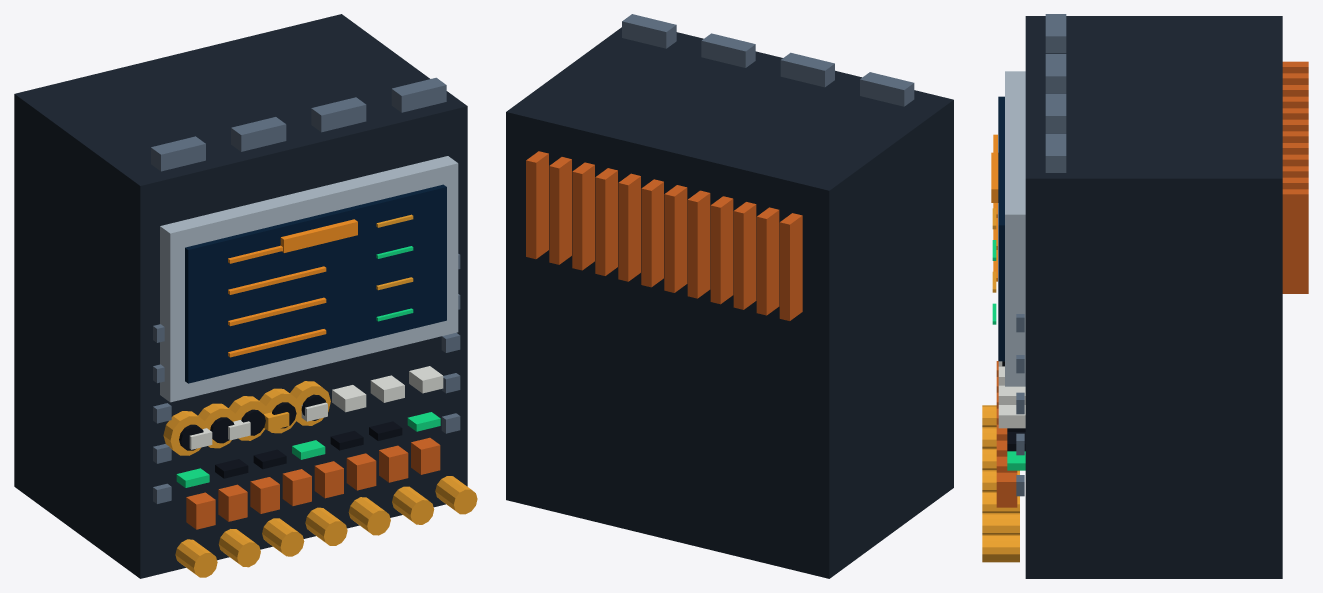
Rendered from 30_L87_BearingPowerAmplifierCabinet.fbx.
3 renders of one model, left to right at view 1: azimuth 30°, elevation 25°; view 2: azimuth 150°, elevation 25°; view 3: azimuth 270°, elevation 25°, orthographic. The views are drawn at different scales.
Visible parts, largest first — view 1: L87_BearingPowerAmplifierCabinet, L87_BearingPowerAmplifierCabinet_Part_0010, L87_BearingPowerAmplifierCabinet_Part_0011, L87_BearingPowerAmplifierCabinet_Part_0013, L87_BearingPowerAmplifierCabinet_Part_0021, L87_BearingPowerAmplifierCabinet_Part_0019, L87_BearingPowerAmplifierCabinet_Part_0015, L87_BearingPowerAmplifierCabinet_Part_0017; view 2: L87_BearingPowerAmplifierCabinet, L87_BearingPowerAmplifierCabinet_Part_0012, L87_BearingPowerAmplifierCabinet_Part_0010; view 3: L87_BearingPowerAmplifierCabinet, L87_BearingPowerAmplifierCabinet_Part_0012, L87_BearingPowerAmplifierCabinet_Part_0010.
Boxes of the visible parts, x1=… form: L87_BearingPowerAmplifierCabinet: x1=14, y1=14, x2=477, y2=578; L87_BearingPowerAmplifierCabinet_Part_0010: x1=151, y1=77, x2=446, y2=171; L87_BearingPowerAmplifierCabinet_Part_0011: x1=280, y1=219, x2=357, y2=252; L87_BearingPowerAmplifierCabinet_Part_0013: x1=163, y1=411, x2=207, y2=455; L87_BearingPowerAmplifierCabinet_Part_0021: x1=290, y1=381, x2=330, y2=425; L87_BearingPowerAmplifierCabinet_Part_0019: x1=259, y1=388, x2=299, y2=433; L87_BearingPowerAmplifierCabinet_Part_0015: x1=198, y1=403, x2=237, y2=448; L87_BearingPowerAmplifierCabinet_Part_0017: x1=229, y1=396, x2=268, y2=440; L87_BearingPowerAmplifierCabinet: x1=506, y1=27, x2=953, y2=578; L87_BearingPowerAmplifierCabinet_Part_0012: x1=526, y1=151, x2=802, y2=320; L87_BearingPowerAmplifierCabinet_Part_0010: x1=622, y1=14, x2=914, y2=106; L87_BearingPowerAmplifierCabinet: x1=982, y1=16, x2=1282, y2=578; L87_BearingPowerAmplifierCabinet_Part_0012: x1=1282, y1=61, x2=1308, y2=293; L87_BearingPowerAmplifierCabinet_Part_0010: x1=1045, y1=14, x2=1066, y2=172.
Size of the model in its own units: 112 by 134 by 95.05.
